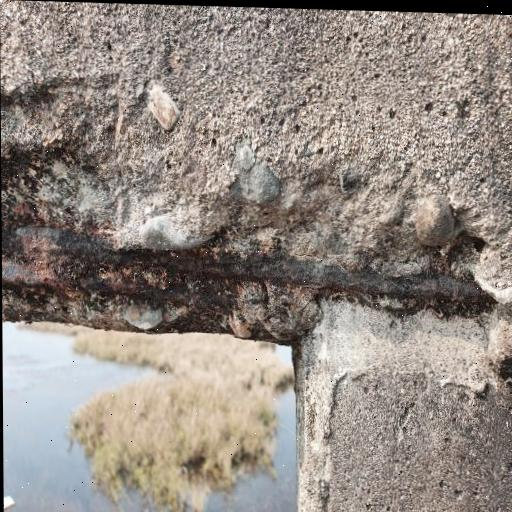exposed_rebar: (2, 227, 482, 302)
